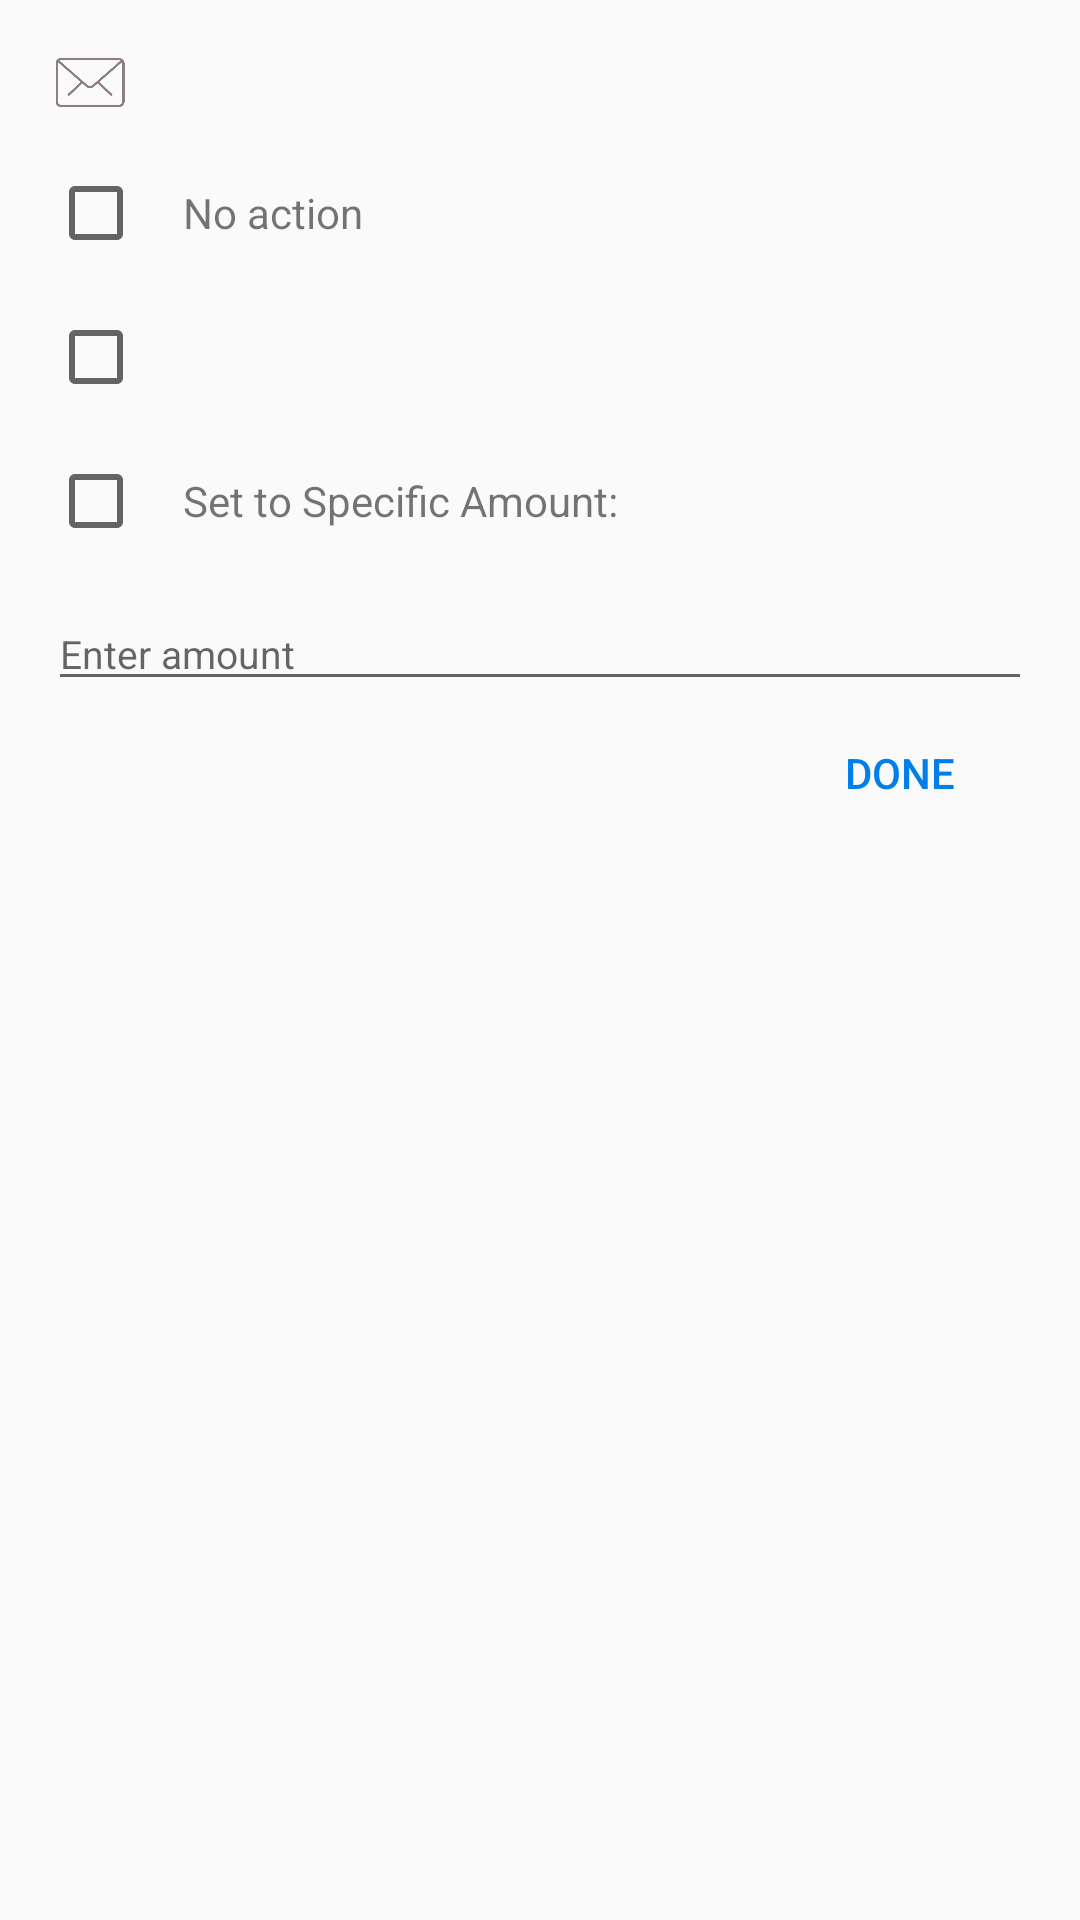

Icons on this 1080 × 1920 Android screen, each with the point to tap as point (x, y):
mail: point (90, 82)
